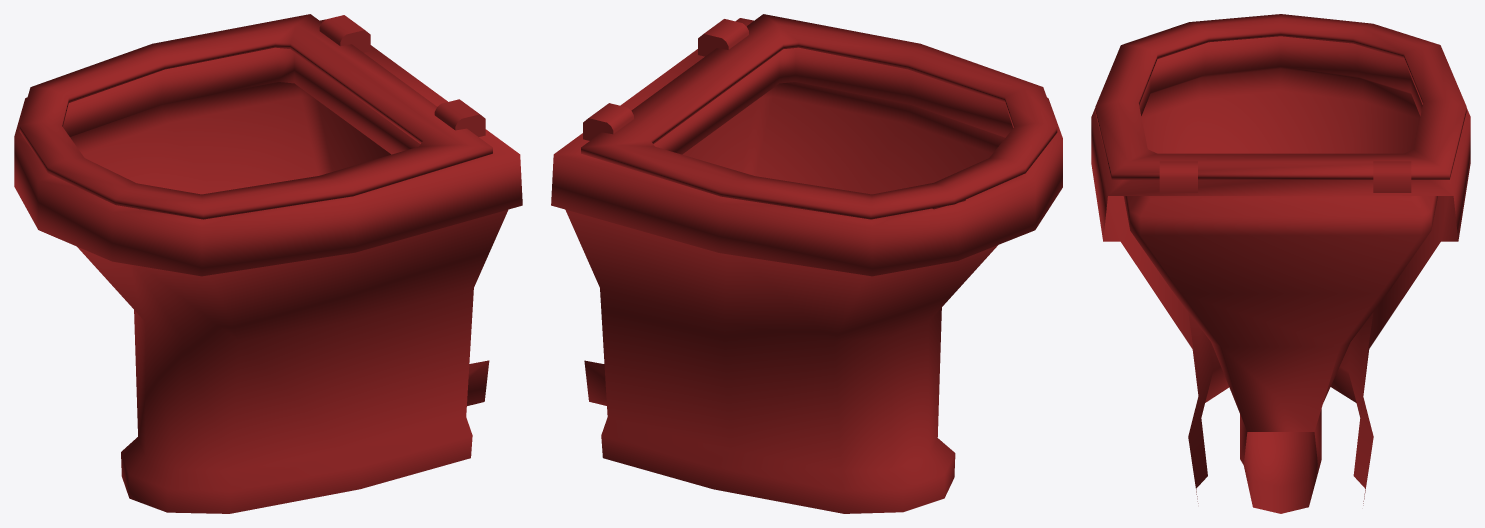
Rendered from Pan_Unit.fbx.
3 renders of one model, left to right at view 1: azimuth 30°, elevation 25°; view 2: azimuth 150°, elevation 25°; view 3: azimuth 270°, elevation 25°, orthographic. The views are drawn at different scales.
Parts seen in each view (by area): view 1: Pan_Unit; view 2: Pan_Unit; view 3: Pan_Unit.
Part boxes in pixels (x1=…): Pan_Unit: x1=14, y1=14, x2=522, y2=513; Pan_Unit: x1=551, y1=14, x2=1062, y2=513; Pan_Unit: x1=1091, y1=14, x2=1470, y2=513.
Size of the model in its own units: 60.44 by 48.53 by 49.7.
